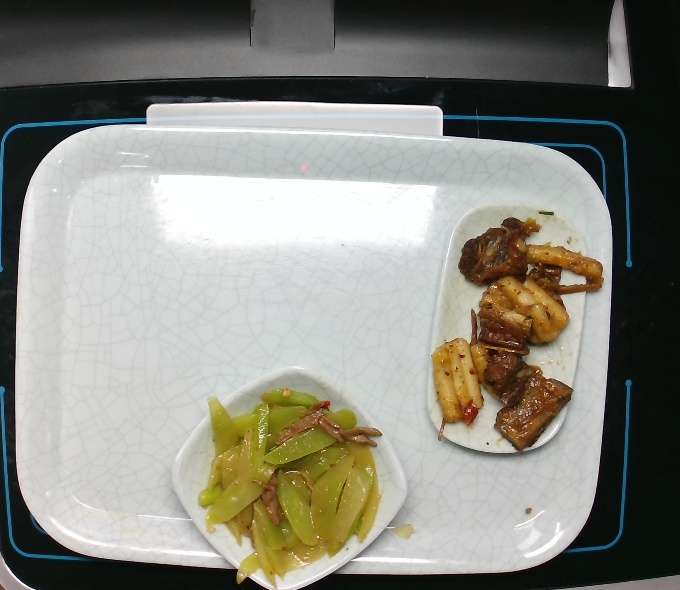wcq-NianGaoZaiPai: (428, 214, 606, 454)
wcq-WoSun: (195, 386, 385, 590)
